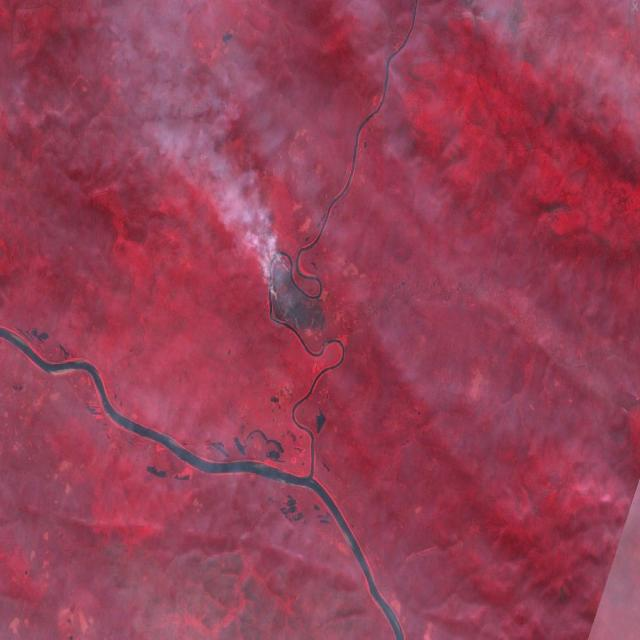fire: (258, 246, 326, 347)
